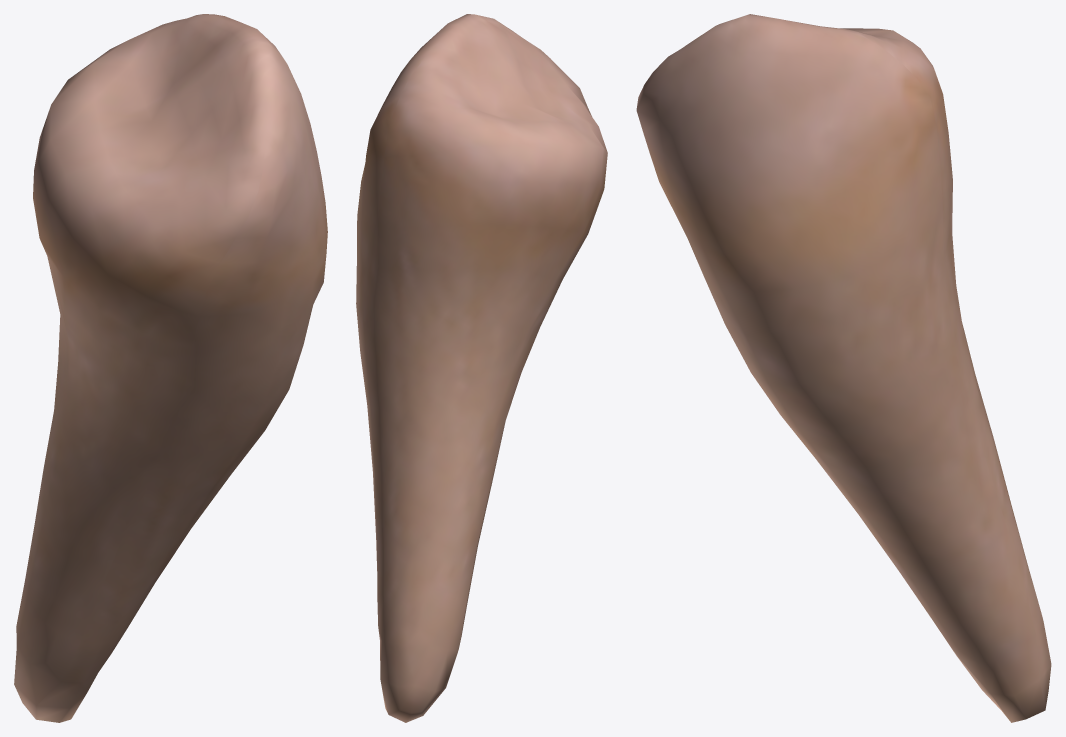
The picture shows the model from 3 angles, left to right: view 1: azimuth 30°, elevation 25°; view 2: azimuth 150°, elevation 25°; view 3: azimuth 270°, elevation 25°; orthographic projection. The views are drawn at different scales.
Visible parts, largest first — view 1: t_35; view 2: t_35; view 3: t_35.
Boxes of the visible parts, bbox=[...] form: t_35: bbox=[14, 14, 327, 722]; t_35: bbox=[356, 14, 607, 722]; t_35: bbox=[636, 14, 1051, 722].
Size of the model in its own units: 0.0717 by 0.1987 by 0.1026.
1 material, 1 textured.
